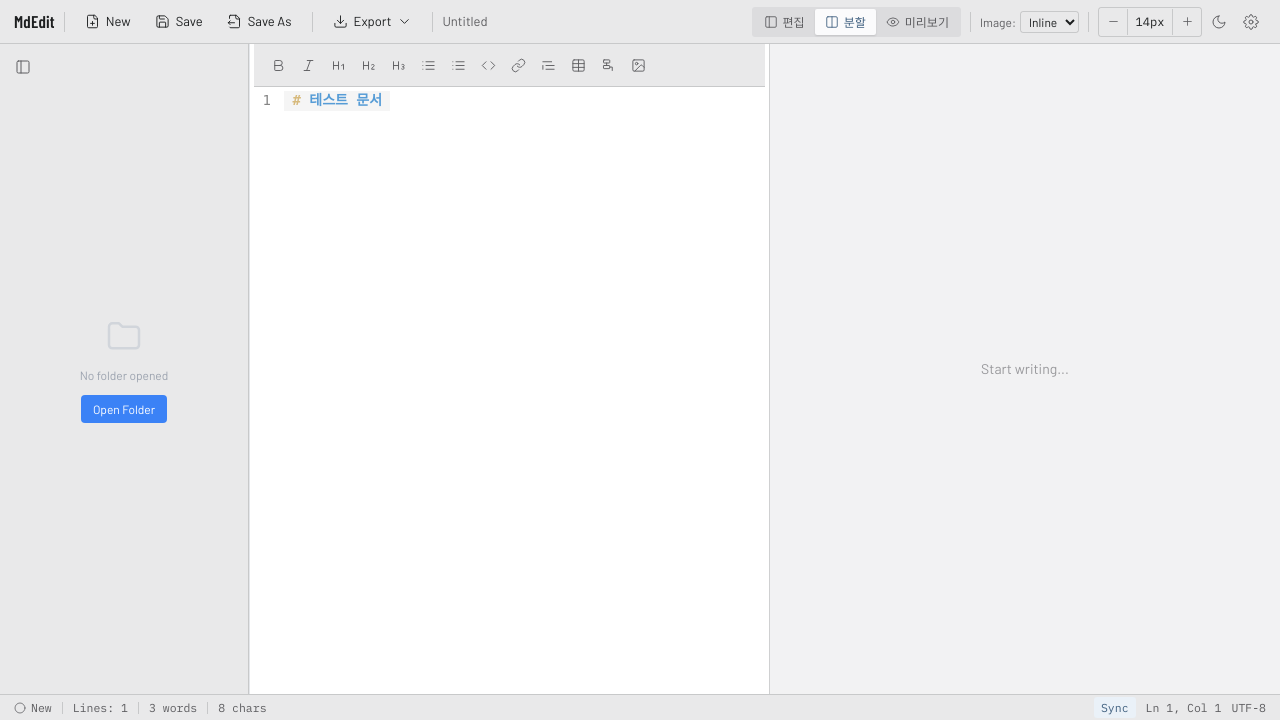
Test: SPEC-EXPORT-004: 누락 이미지 보고 › F2(연속): 이전 내보내기의 누락 목록은 다음 내보내기에 남지 않는다
Click the button "Export" at point(372, 22), box [322,6,423,36]
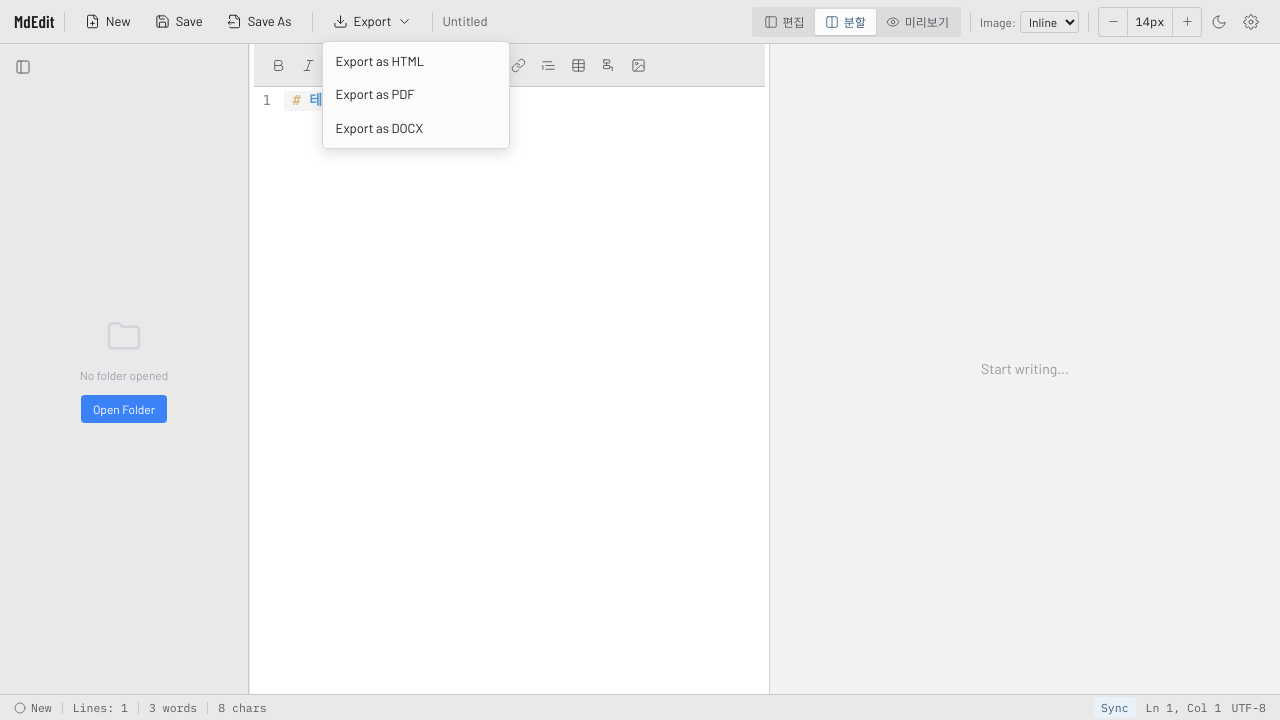
Click the menu item "Export as HTML" at point(416, 61), box [326,44,506,78]
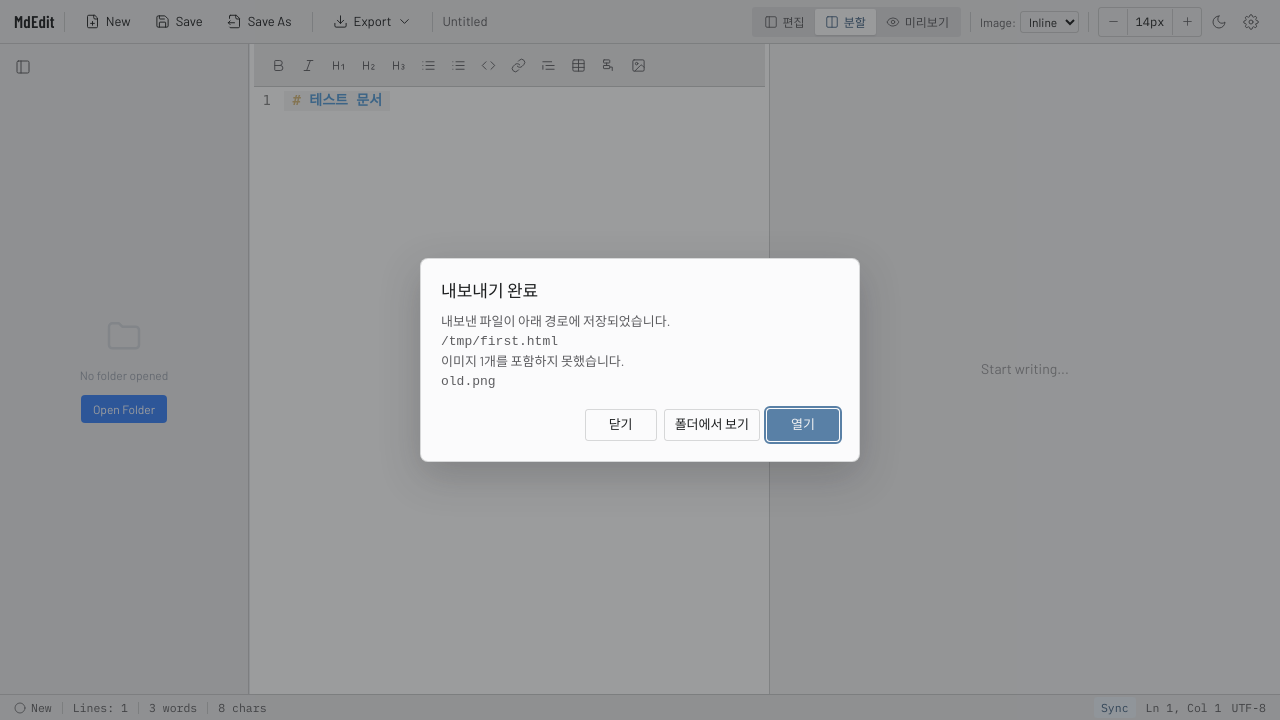
expect the element with test id "unembedded-images" is shown: met, box [441,352,624,389]
Click the button with test id "dialog-action-cancel" at point(621, 424), box [585,408,657,440]
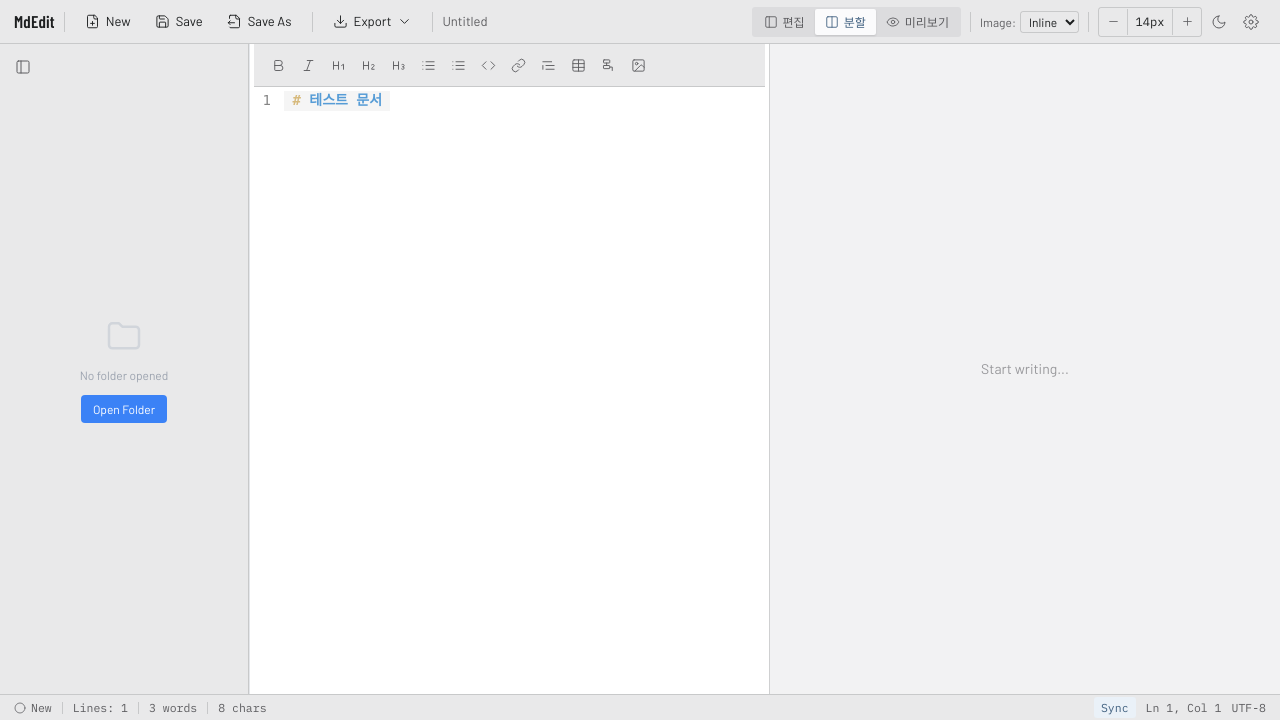
Click the button "Export" at point(372, 22), box [322,6,423,36]
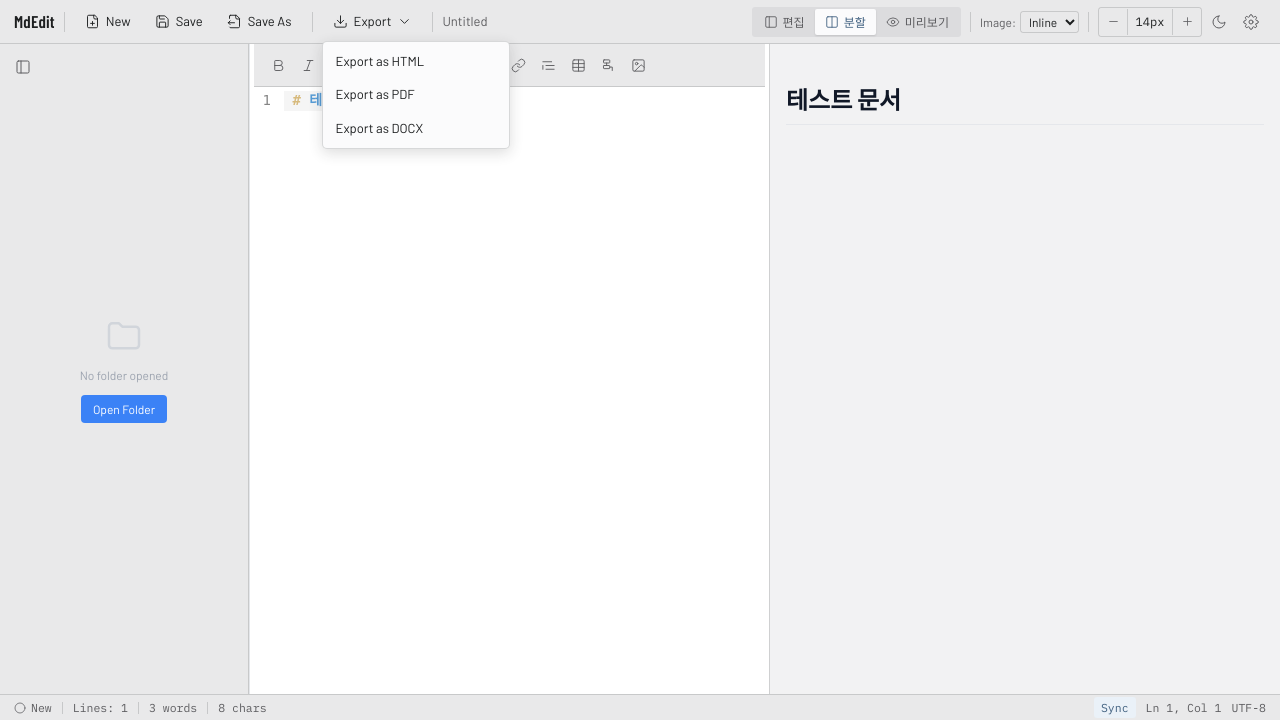
Click the menu item "Export as HTML" at point(416, 61), box [326,44,506,78]
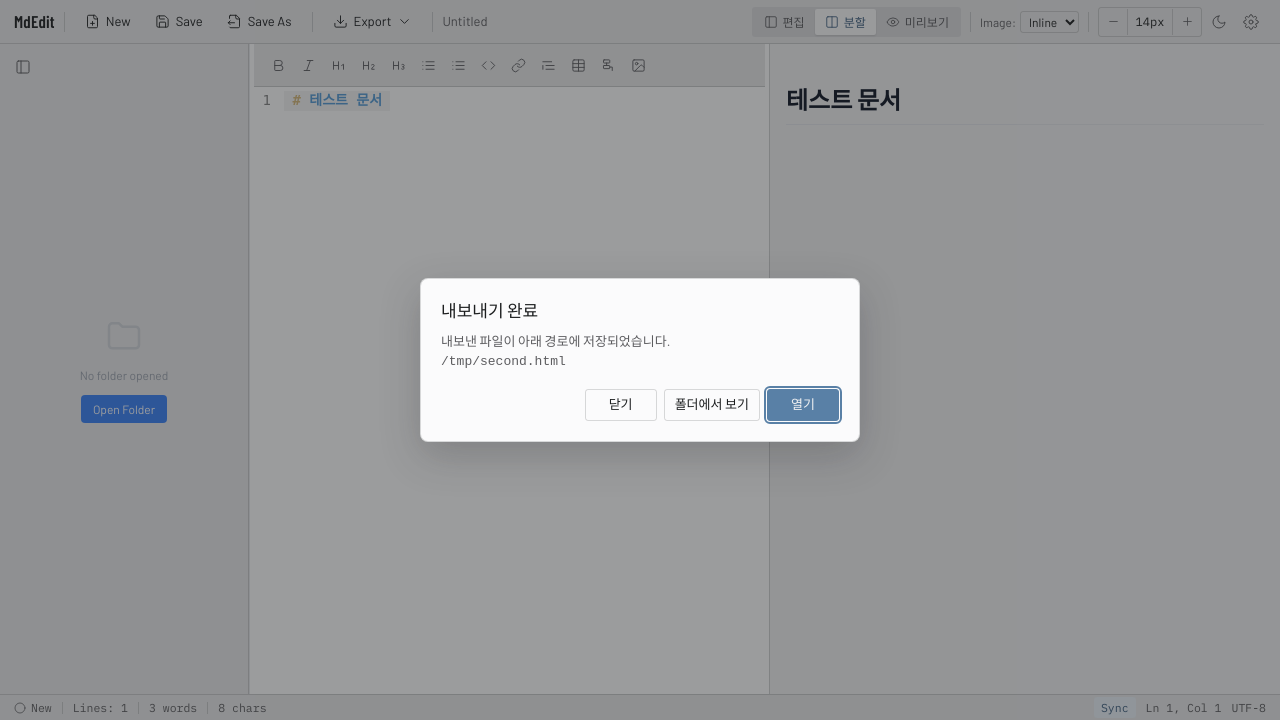
expect the text "/tmp/second.html" is shown: met, box [441,354,566,369]
